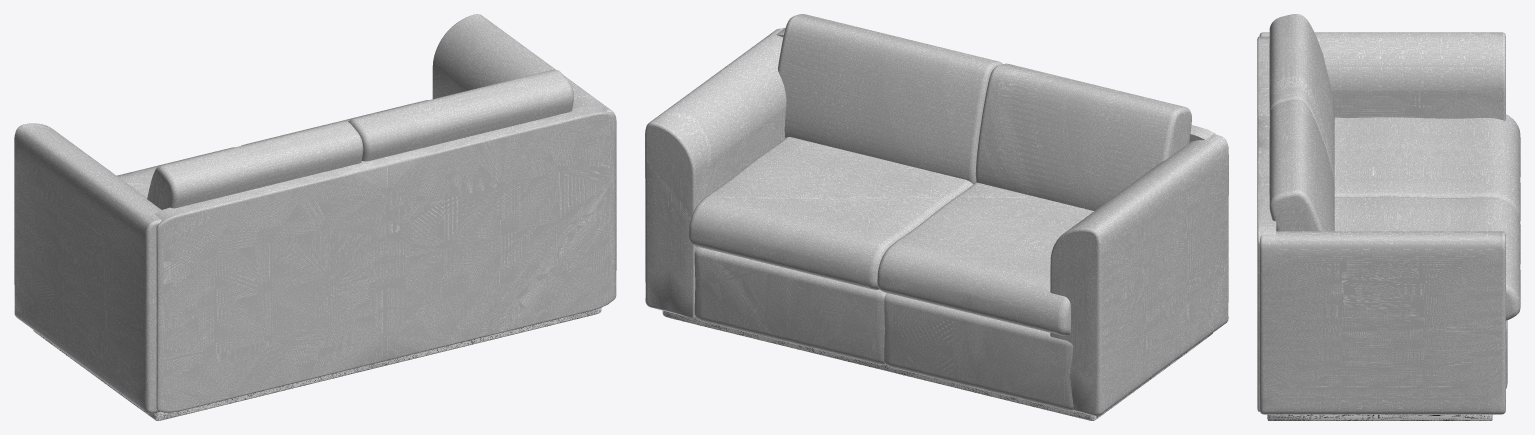
3 views of the same model, side by side, from view 1: azimuth 30°, elevation 25°; view 2: azimuth 150°, elevation 25°; view 3: azimuth 270°, elevation 25° (orthographic). The views are drawn at different scales.
Visible parts, largest first — view 1: mesh6_mesh6-geometry, mesh5_mesh5-geometry, mesh12_mesh12-geometry, mesh10_mesh10-geometry, mesh9_mesh9-geometry, mesh11_mesh11-geometry, mesh8_mesh8-geometry, mesh7_mesh7-geometry, mesh2_mesh2-geometry; view 2: mesh12_mesh12-geometry, mesh1_mesh1-geometry, mesh9_mesh9-geometry, mesh10_mesh10-geometry, mesh2_mesh2-geometry, mesh11_mesh11-geometry, mesh4_mesh4-geometry, mesh3_mesh3-geometry, mesh8_mesh8-geometry, mesh7_mesh7-geometry; view 3: mesh11_mesh11-geometry, mesh12_mesh12-geometry, mesh2_mesh2-geometry, mesh1_mesh1-geometry, mesh9_mesh9-geometry, mesh10_mesh10-geometry, mesh5_mesh5-geometry, mesh7_mesh7-geometry, mesh6_mesh6-geometry.
Part boxes in pixels (left/top/right/bottom): mesh6_mesh6-geometry: left=154, top=158, right=386, bottom=412; mesh5_mesh5-geometry: left=379, top=105, right=615, bottom=360; mesh12_mesh12-geometry: left=14, top=123, right=161, bottom=413; mesh10_mesh10-geometry: left=147, top=94, right=470, bottom=209; mesh9_mesh9-geometry: left=253, top=69, right=573, bottom=185; mesh11_mesh11-geometry: left=432, top=14, right=616, bottom=299; mesh8_mesh8-geometry: left=33, top=330, right=378, bottom=420; mesh7_mesh7-geometry: left=378, top=308, right=601, bottom=367; mesh2_mesh2-geometry: left=117, top=122, right=337, bottom=197; mesh12_mesh12-geometry: left=1050, top=134, right=1228, bottom=415; mesh1_mesh1-geometry: left=689, top=137, right=1066, bottom=313; mesh9_mesh9-geometry: left=778, top=14, right=1095, bottom=204; mesh10_mesh10-geometry: left=871, top=37, right=1191, bottom=210; mesh2_mesh2-geometry: left=780, top=158, right=1093, bottom=335; mesh11_mesh11-geometry: left=645, top=28, right=786, bottom=318; mesh4_mesh4-geometry: left=789, top=269, right=1073, bottom=410; mesh3_mesh3-geometry: left=694, top=247, right=979, bottom=389; mesh8_mesh8-geometry: left=878, top=333, right=1212, bottom=420; mesh7_mesh7-geometry: left=662, top=310, right=878, bottom=368; mesh11_mesh11-geometry: left=1259, top=231, right=1505, bottom=414; mesh12_mesh12-geometry: left=1259, top=32, right=1505, bottom=120; mesh2_mesh2-geometry: left=1334, top=114, right=1520, bottom=263; mesh1_mesh1-geometry: left=1334, top=151, right=1520, bottom=320; mesh9_mesh9-geometry: left=1269, top=55, right=1334, bottom=231; mesh10_mesh10-geometry: left=1269, top=14, right=1334, bottom=229; mesh5_mesh5-geometry: left=1257, top=134, right=1276, bottom=411; mesh7_mesh7-geometry: left=1267, top=414, right=1492, bottom=420; mesh6_mesh6-geometry: left=1257, top=36, right=1269, bottom=135.
Bounding box in the file's own units: 0.8133 × 0.3934 × 0.4286.
